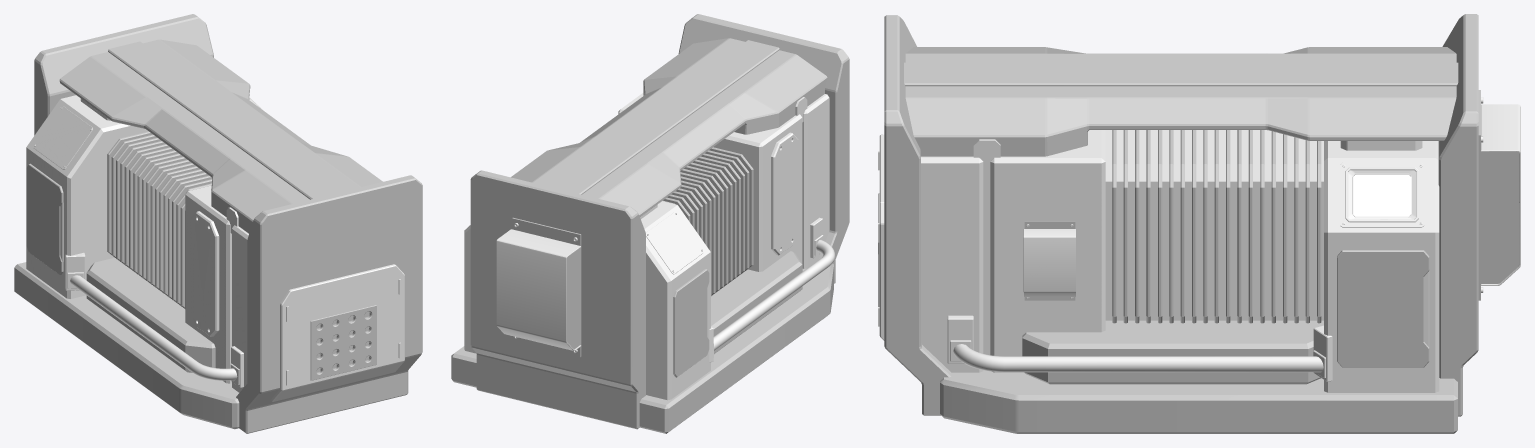
The model's file is KB3D_FTW_PropGenerator_B_grp.glb.
3 views of the same model, side by side, from view 1: azimuth 30°, elevation 25°; view 2: azimuth 150°, elevation 25°; view 3: azimuth 270°, elevation 25° (orthographic). The views are drawn at different scales.
Parts seen in each view (by area): view 1: KB3D_FTW_PropGenerator_B_Main; view 2: KB3D_FTW_PropGenerator_B_Main; view 3: KB3D_FTW_PropGenerator_B_Main.
Boxes of the visible parts, bbox=[...] form: KB3D_FTW_PropGenerator_B_Main: bbox=[14, 14, 422, 433]; KB3D_FTW_PropGenerator_B_Main: bbox=[451, 14, 849, 433]; KB3D_FTW_PropGenerator_B_Main: bbox=[878, 14, 1520, 433].
Bounding box in the file's own units: 0.7463 × 0.7316 × 1.41.
Materials: 7 (1 with a texture image).
